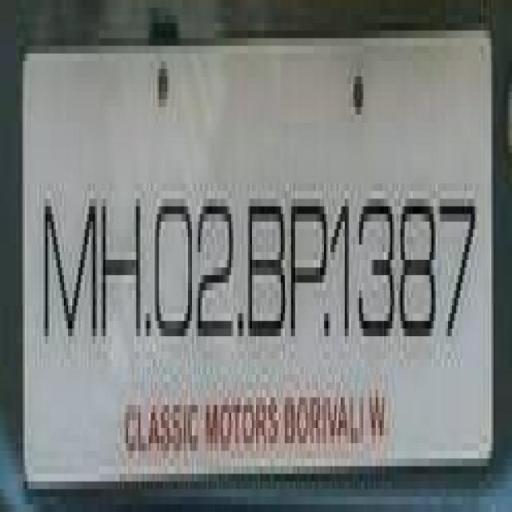number plate: (24, 15, 506, 474)
